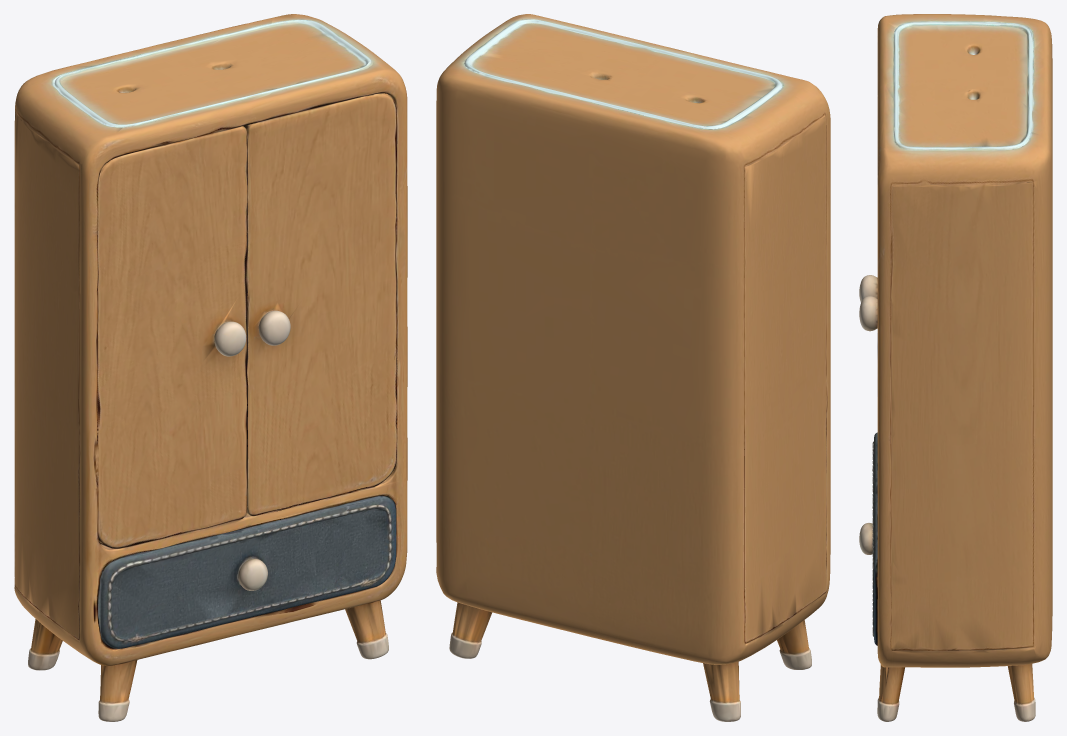
Rendered from wardrobe.high.glb.
3 renders of one model, left to right at view 1: azimuth 30°, elevation 25°; view 2: azimuth 150°, elevation 25°; view 3: azimuth 270°, elevation 25°, orthographic. The views are drawn at different scales.
Parts seen in each view (by area): view 1: tripo_node_705cc698-275d-47ad-b365-2ff6685e04ab; view 2: tripo_node_705cc698-275d-47ad-b365-2ff6685e04ab; view 3: tripo_node_705cc698-275d-47ad-b365-2ff6685e04ab.
Part boxes in pixels (bbox=[...]): tripo_node_705cc698-275d-47ad-b365-2ff6685e04ab: bbox=[14, 14, 407, 721]; tripo_node_705cc698-275d-47ad-b365-2ff6685e04ab: bbox=[436, 14, 830, 721]; tripo_node_705cc698-275d-47ad-b365-2ff6685e04ab: bbox=[859, 14, 1052, 721].
Bounding box in the file's own units: 1.1 × 1.9 × 0.5801.
1 material, 1 textured.
